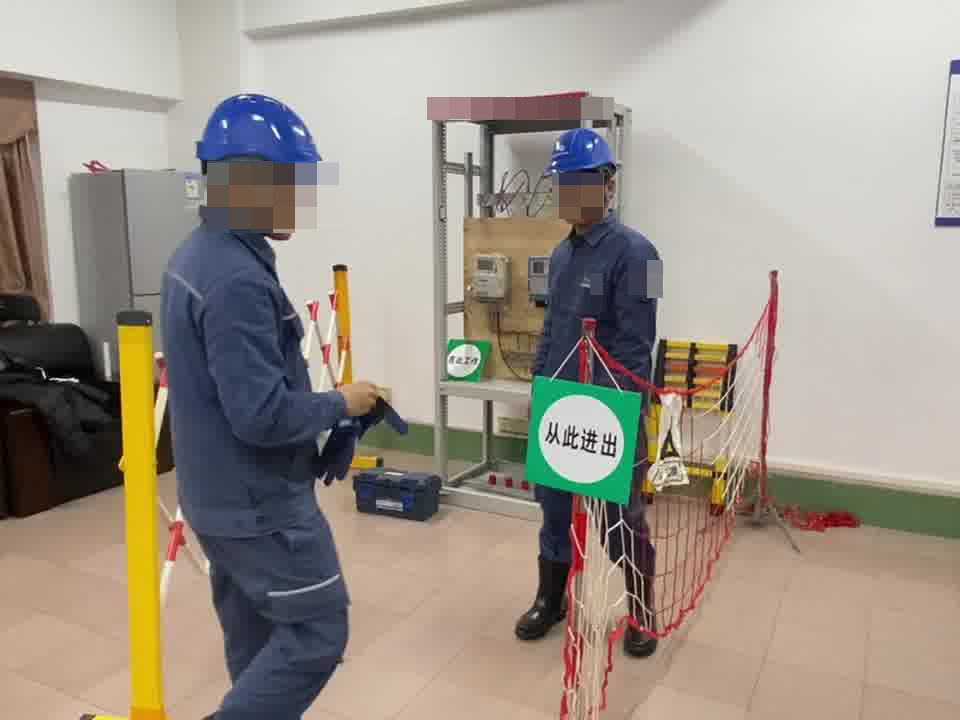downsuit: (183, 527, 352, 720), (536, 448, 657, 566)
halt: (192, 91, 333, 238), (543, 127, 622, 225)
hand: (336, 381, 379, 419)
inear: (219, 161, 271, 210), (600, 173, 617, 206)
intosign: (524, 371, 649, 508)
person: (157, 81, 384, 720), (514, 124, 675, 660)
shoe: (517, 558, 662, 656)
sleeve: (632, 267, 660, 307)
upsuit: (163, 229, 350, 528), (533, 209, 662, 410)
worksign: (441, 335, 496, 389)
